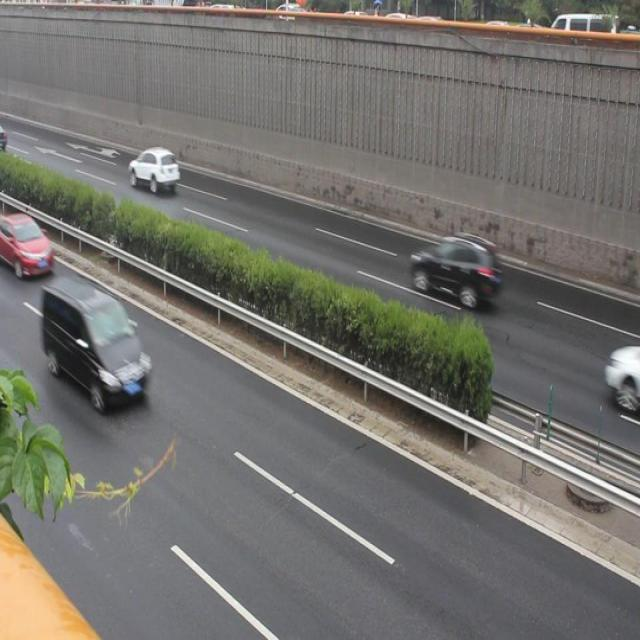car: (408, 230, 498, 305), (0, 206, 54, 281), (128, 140, 181, 198)
truck: (43, 274, 156, 411)
